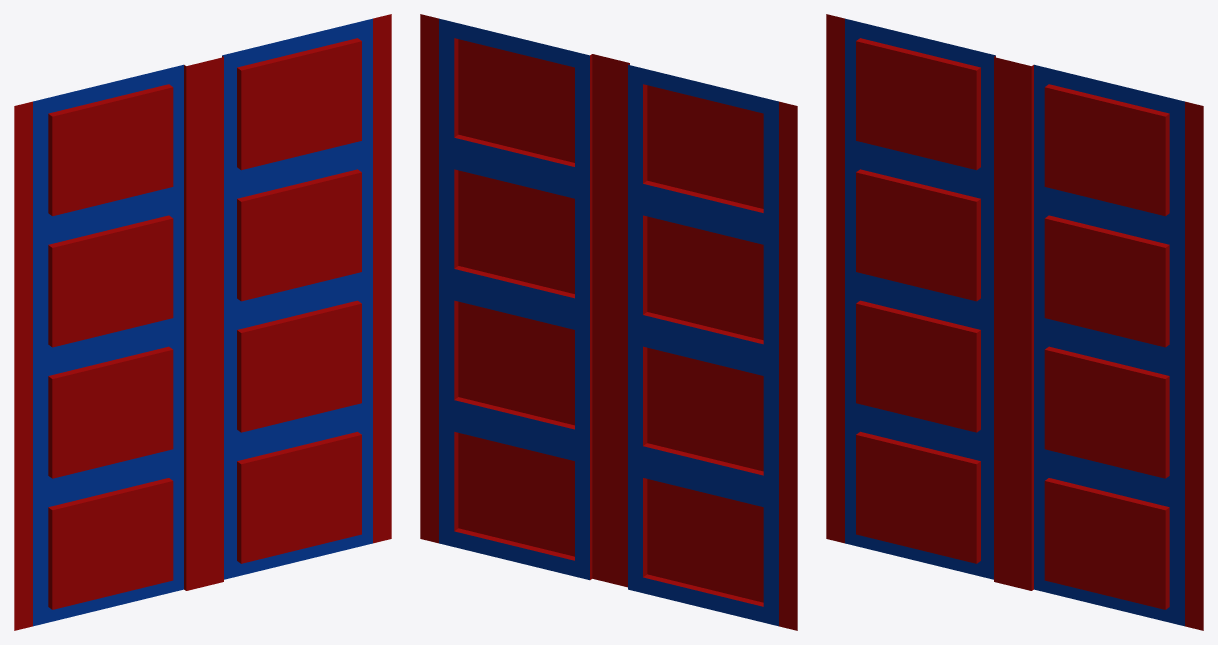
The model's file is BigDoor02.fbx.
3 views of the same model, side by side, from view 1: azimuth 30°, elevation 25°; view 2: azimuth 150°, elevation 25°; view 3: azimuth 330°, elevation 25° (orthographic).
Visible parts, largest first — view 1: BigDoor02; view 2: BigDoor02; view 3: BigDoor02.
Part boxes in pixels (<box>): BigDoor02: <box>14,14,391,630</box>; BigDoor02: <box>420,14,797,630</box>; BigDoor02: <box>826,14,1203,630</box>.
Bounding box in the file's own units: 250 × 332 × 4.85.
